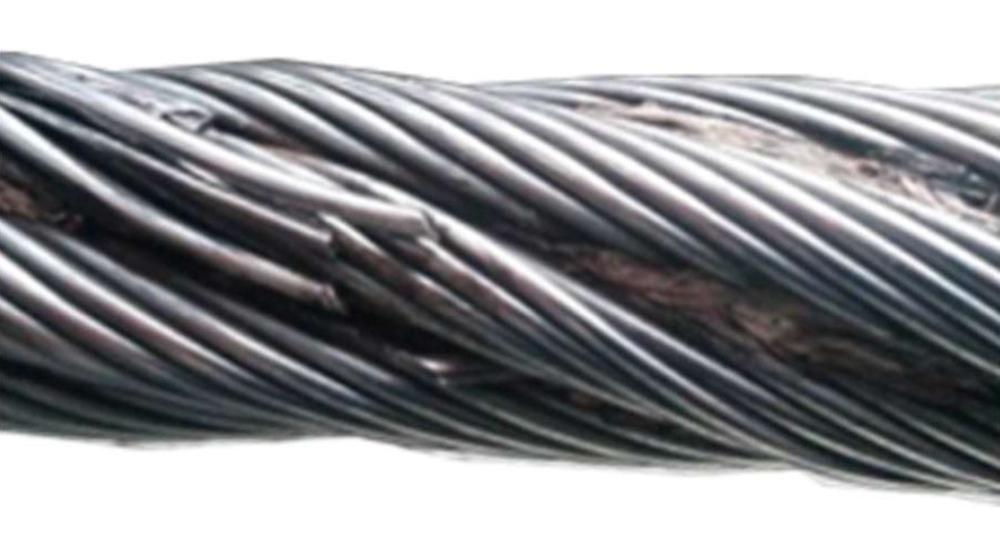break: (299, 205, 365, 327), (380, 338, 487, 398), (377, 192, 450, 269)
